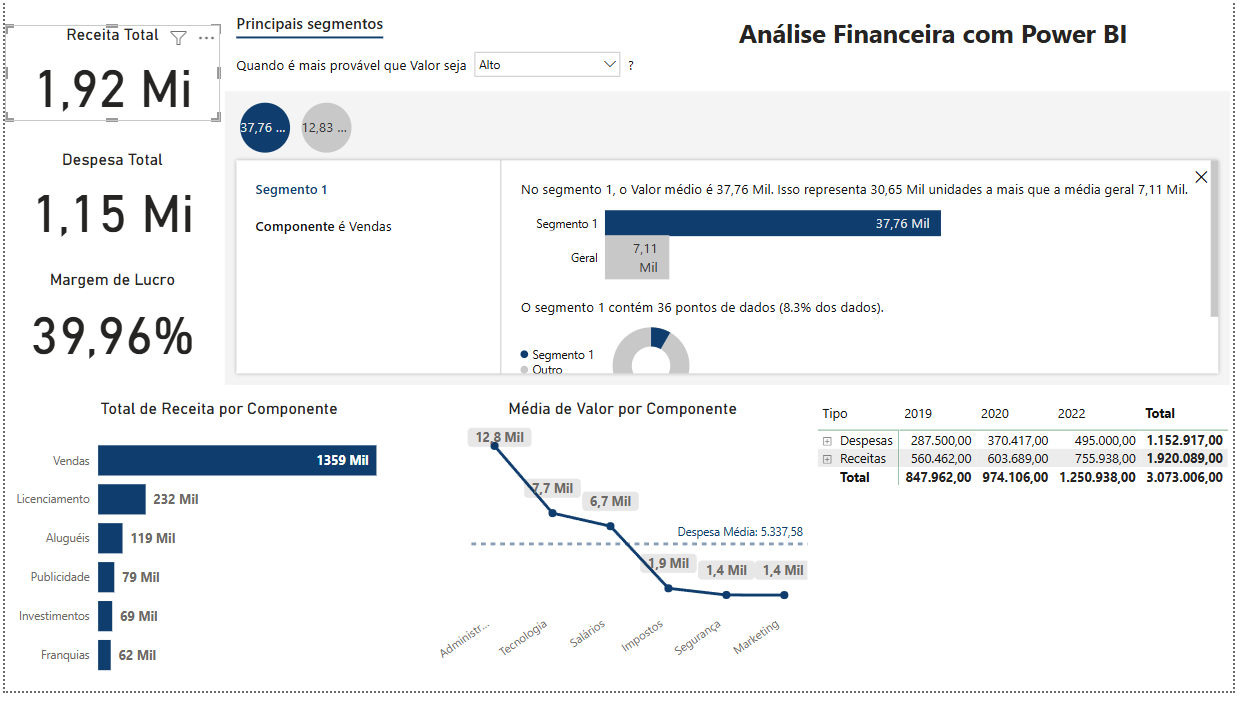

The page's visual inventory and layout, read from the dashboard file:
{"tool":"powerbi","page":{"name":"Página 1","canvas":[1280,720],"ordinal":0},"visuals":[{"type":"card","title":"Receita Total","fields":{"Values":["Sum(DadosFinanceiros.Valor)"]},"box":[0,26.2,223.7,100],"z":0},{"type":"keyDriversVisual","fields":{"Target":["DadosFinanceiros.Valor"],"ExplainBy":["DadosFinanceiros.Componente","DadosFinanceiros.Tipo"]},"box":[223.7,0,1056.8,405.8],"z":2000},{"type":"clusteredBarChart","fields":{"Category":["DadosFinanceiros.Componente"],"Y":["Sum(DadosFinanceiros.Valor)"]},"box":[0,415.3,446.3,304.7],"z":3000},{"type":"areaChart","fields":{"Category":["DadosFinanceiros.Componente"],"Y":["Avg(DadosFinanceiros.Valor)"]},"box":[446.3,415.3,395.1,304.7],"z":4000},{"type":"card","title":"Margem de Lucro","fields":{"Values":["Medidas.Margem_Lucro"]},"box":[0,280.9,223.7,104.7],"z":5000},{"type":"pivotTable","fields":{"Rows":["DadosFinanceiros.Tipo","DadosFinanceiros.Componente"],"Values":["Sum(DadosFinanceiros.Valor)"],"Columns":["DadosFinanceiros.Data.Variation.Hierarquia de datas.Ano"]},"box":[841.4,415.3,439.1,304.7],"z":5001},{"type":"textbox","box":[665.3,10.7,602.2,52.4],"z":5002},{"type":"card","title":"Despesa Total","fields":{"Values":["Medidas.Total_Despesa"]},"box":[0,155.9,223.7,100],"z":5003}]}

Visuals, with their boxes in screenshot pixels (x1, y1, x2, y2), scaled from the page's 1280x720 canvas onto the 1247x702 screenshot:
"Receita Total" card: region(0, 26, 218, 123)
keyDriversVisual - DadosFinanceiros.Valor x DadosFinanceiros.Componente: region(218, 0, 1246, 396)
clusteredBarChart - DadosFinanceiros.Componente x Sum(DadosFinanceiros.Valor): region(0, 405, 435, 701)
areaChart - DadosFinanceiros.Componente x Avg(DadosFinanceiros.Valor): region(435, 405, 820, 701)
"Margem de Lucro" card: region(0, 274, 218, 376)
pivotTable - DadosFinanceiros.Tipo x DadosFinanceiros.Componente: region(820, 405, 1246, 701)
textbox: region(648, 10, 1235, 62)
"Despesa Total" card: region(0, 152, 218, 250)
